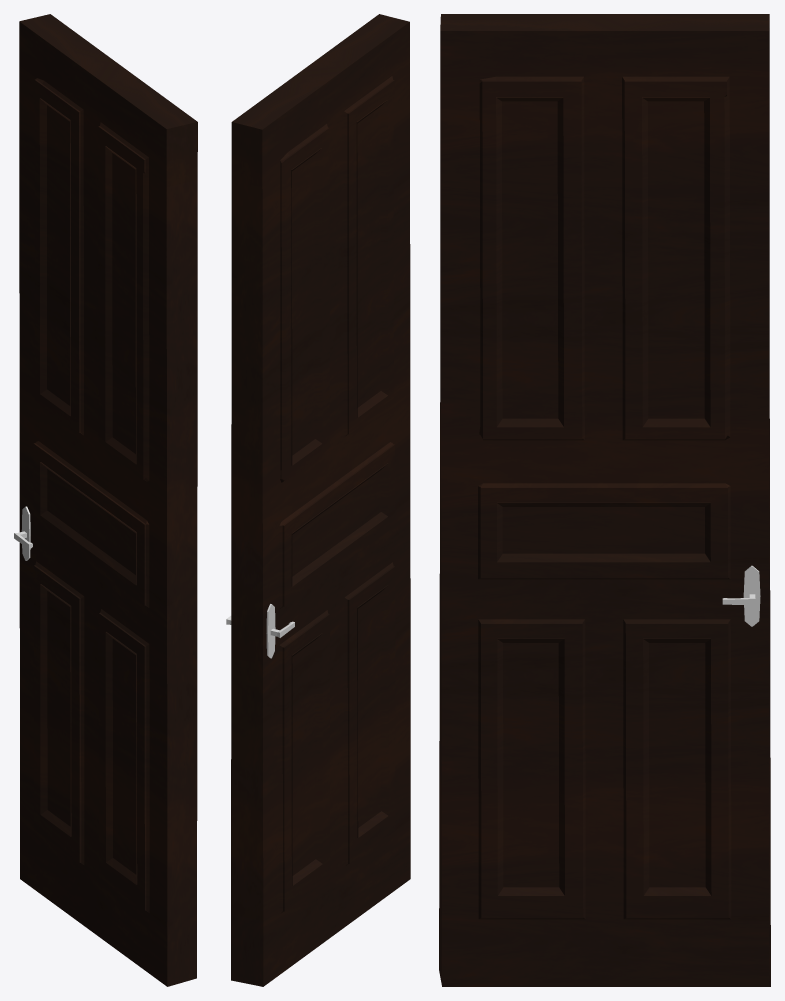
The model's file is CupboardDoor.fbx.
3 renders of one model, left to right at view 1: azimuth 30°, elevation 25°; view 2: azimuth 150°, elevation 25°; view 3: azimuth 270°, elevation 25°, orthographic. The views are drawn at different scales.
Visible parts, largest first — view 1: Door.001; view 2: Door.001, Handle.002; view 3: Door.001, Handle.001.
Part boxes in pixels (box(x1,y1,x2,y2)): Door.001: box(19, 14, 197, 986); Door.001: box(231, 14, 410, 986); Handle.002: box(266, 604, 275, 658); Door.001: box(439, 14, 770, 986); Handle.001: box(743, 565, 760, 626).
Size of the model in its own units: 21.08 by 321 by 101.
Materials: 2 (1 with a texture image).
